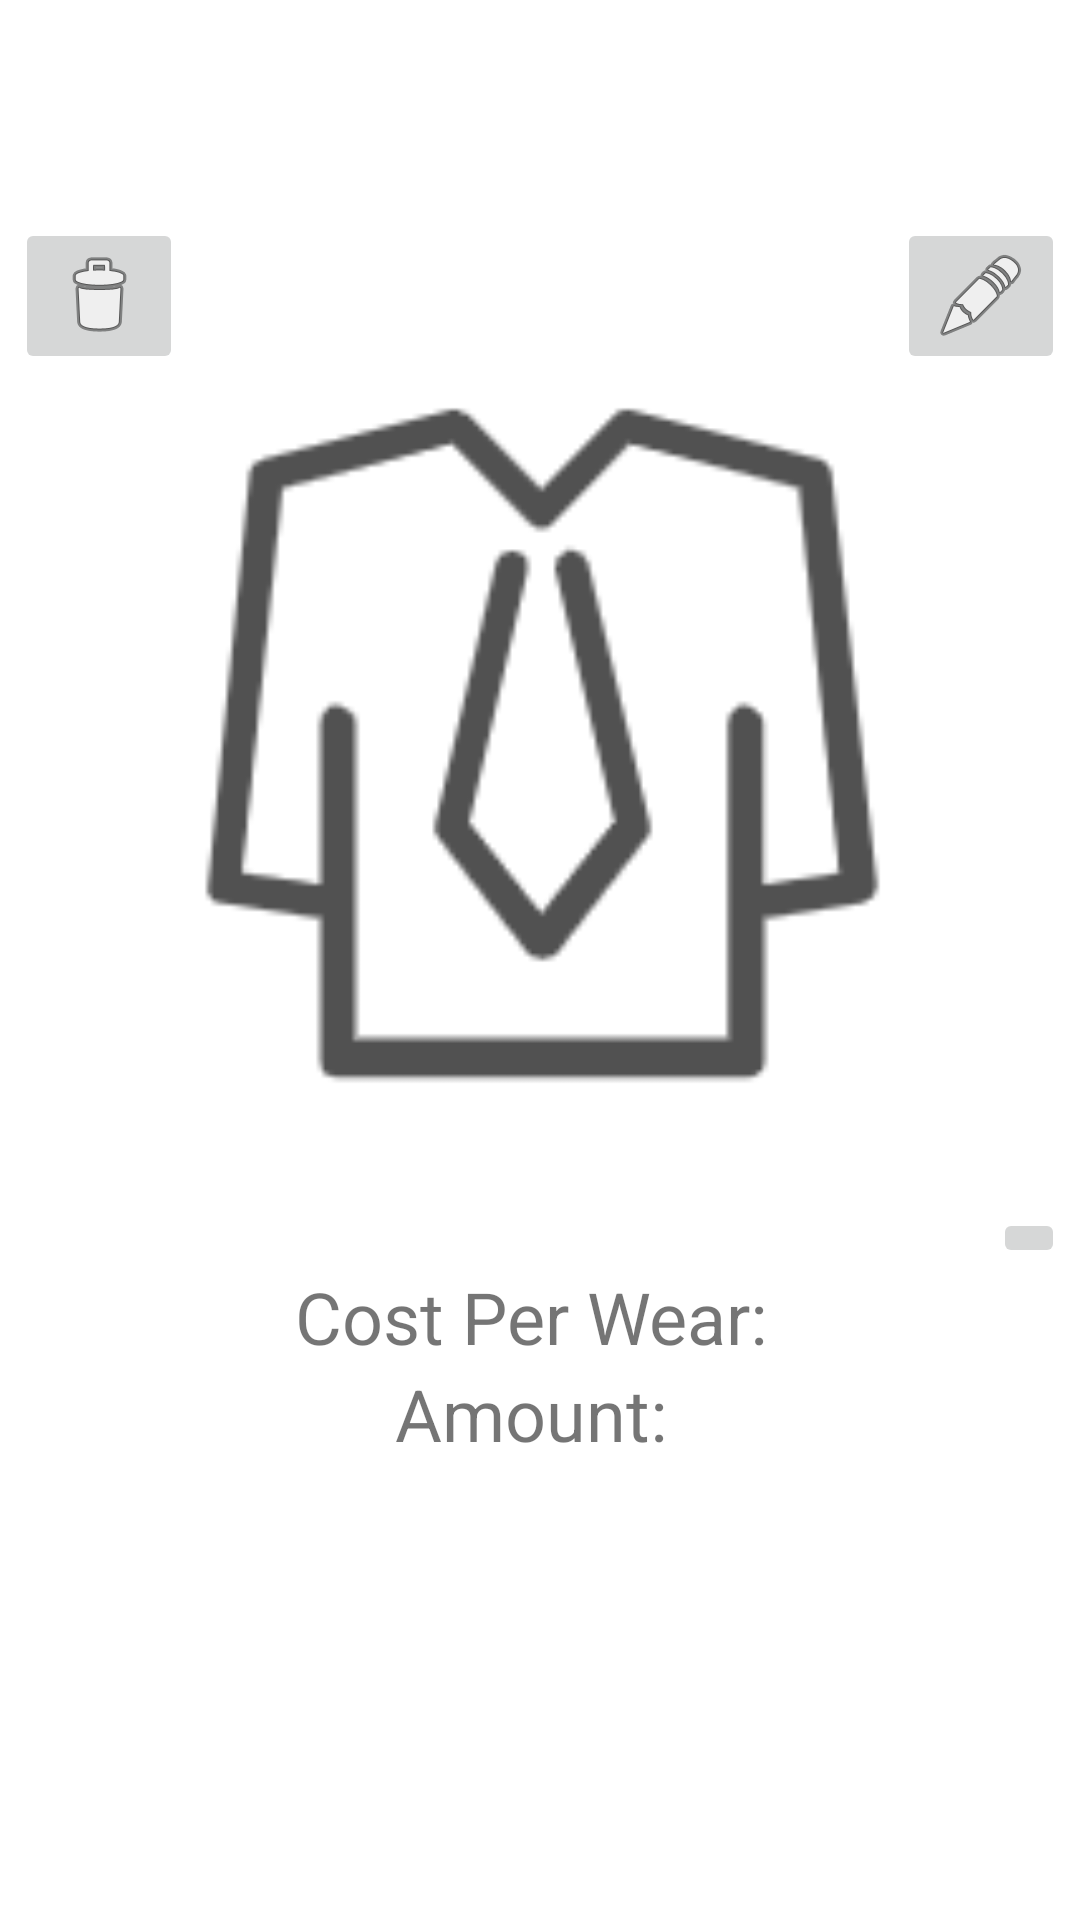

Where to tap for icons on this 1080 x 1920 app screen, as (x,y):
delete: (99,296)
edit: (981,296)
